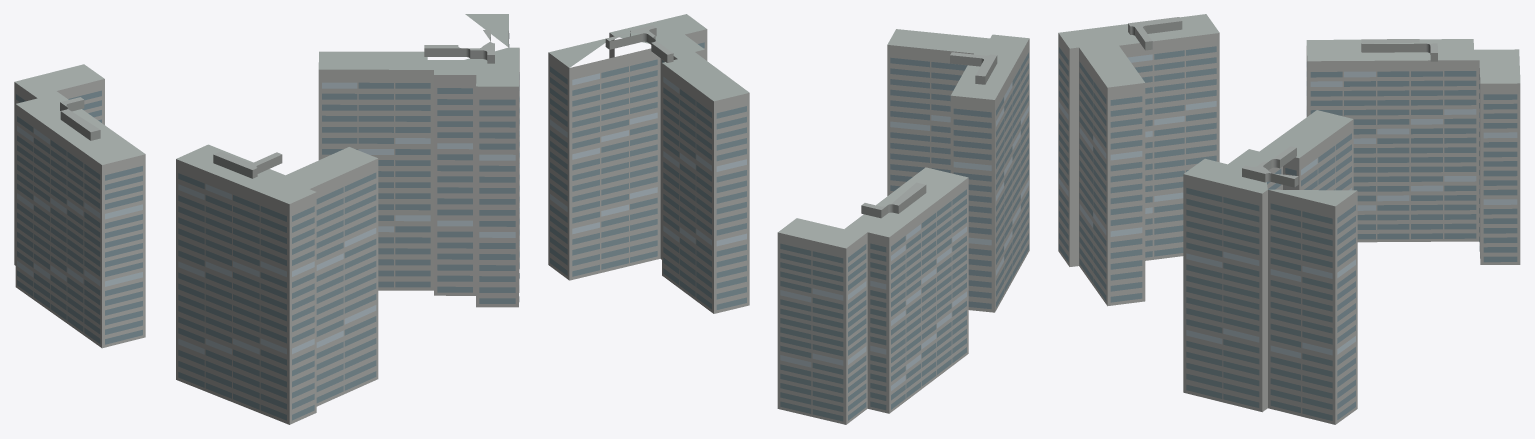
File: apt-a14206002.glb
3 views of the same model, side by side, from view 1: azimuth 30°, elevation 25°; view 2: azimuth 150°, elevation 25°; view 3: azimuth 270°, elevation 25° (orthographic). The views are drawn at different scales.
Parts seen in each view (by area): view 1: apt-a14206002; view 2: apt-a14206002; view 3: apt-a14206002.
Part boxes in pixels (x1=…): apt-a14206002: x1=14, y1=14, x2=519, y2=424; apt-a14206002: x1=548, y1=14, x2=1029, y2=424; apt-a14206002: x1=1058, y1=14, x2=1520, y2=424.
Size of the model in its own units: 123 by 63.4 by 117.
